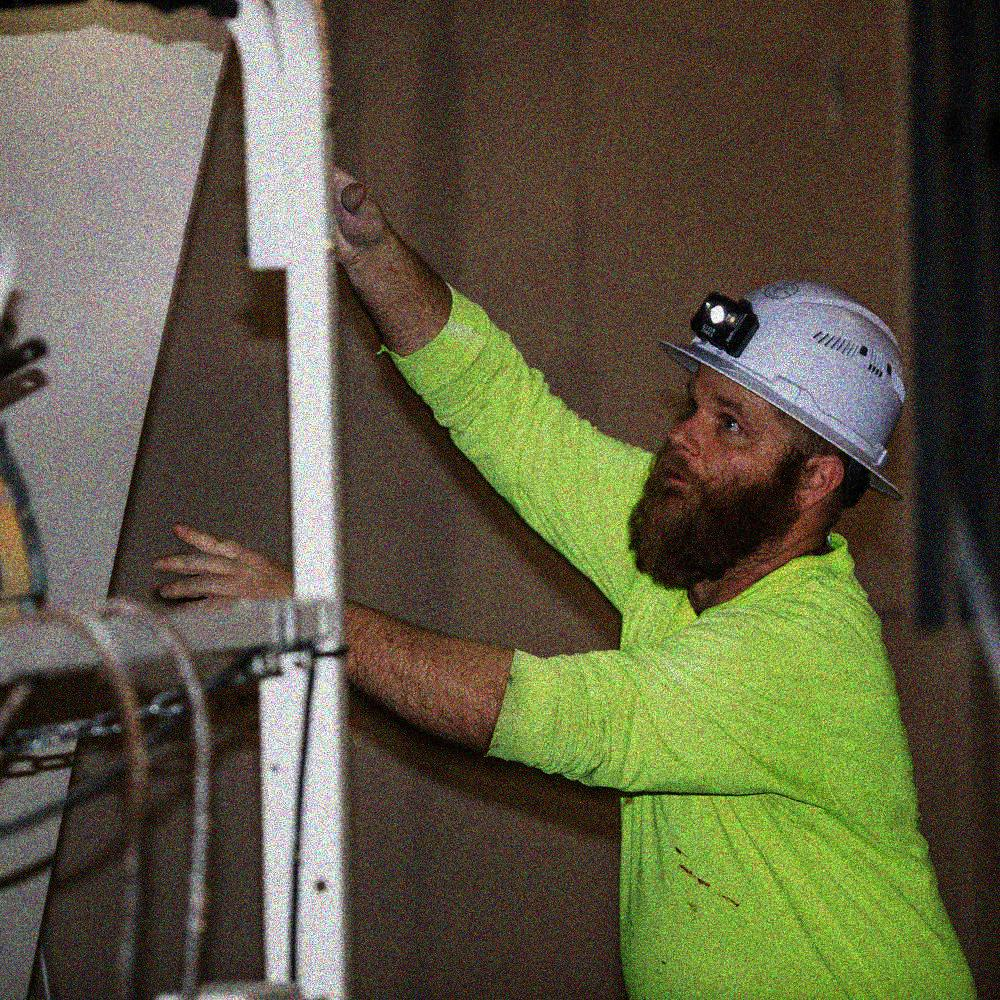helmet: (634, 276, 913, 573)
